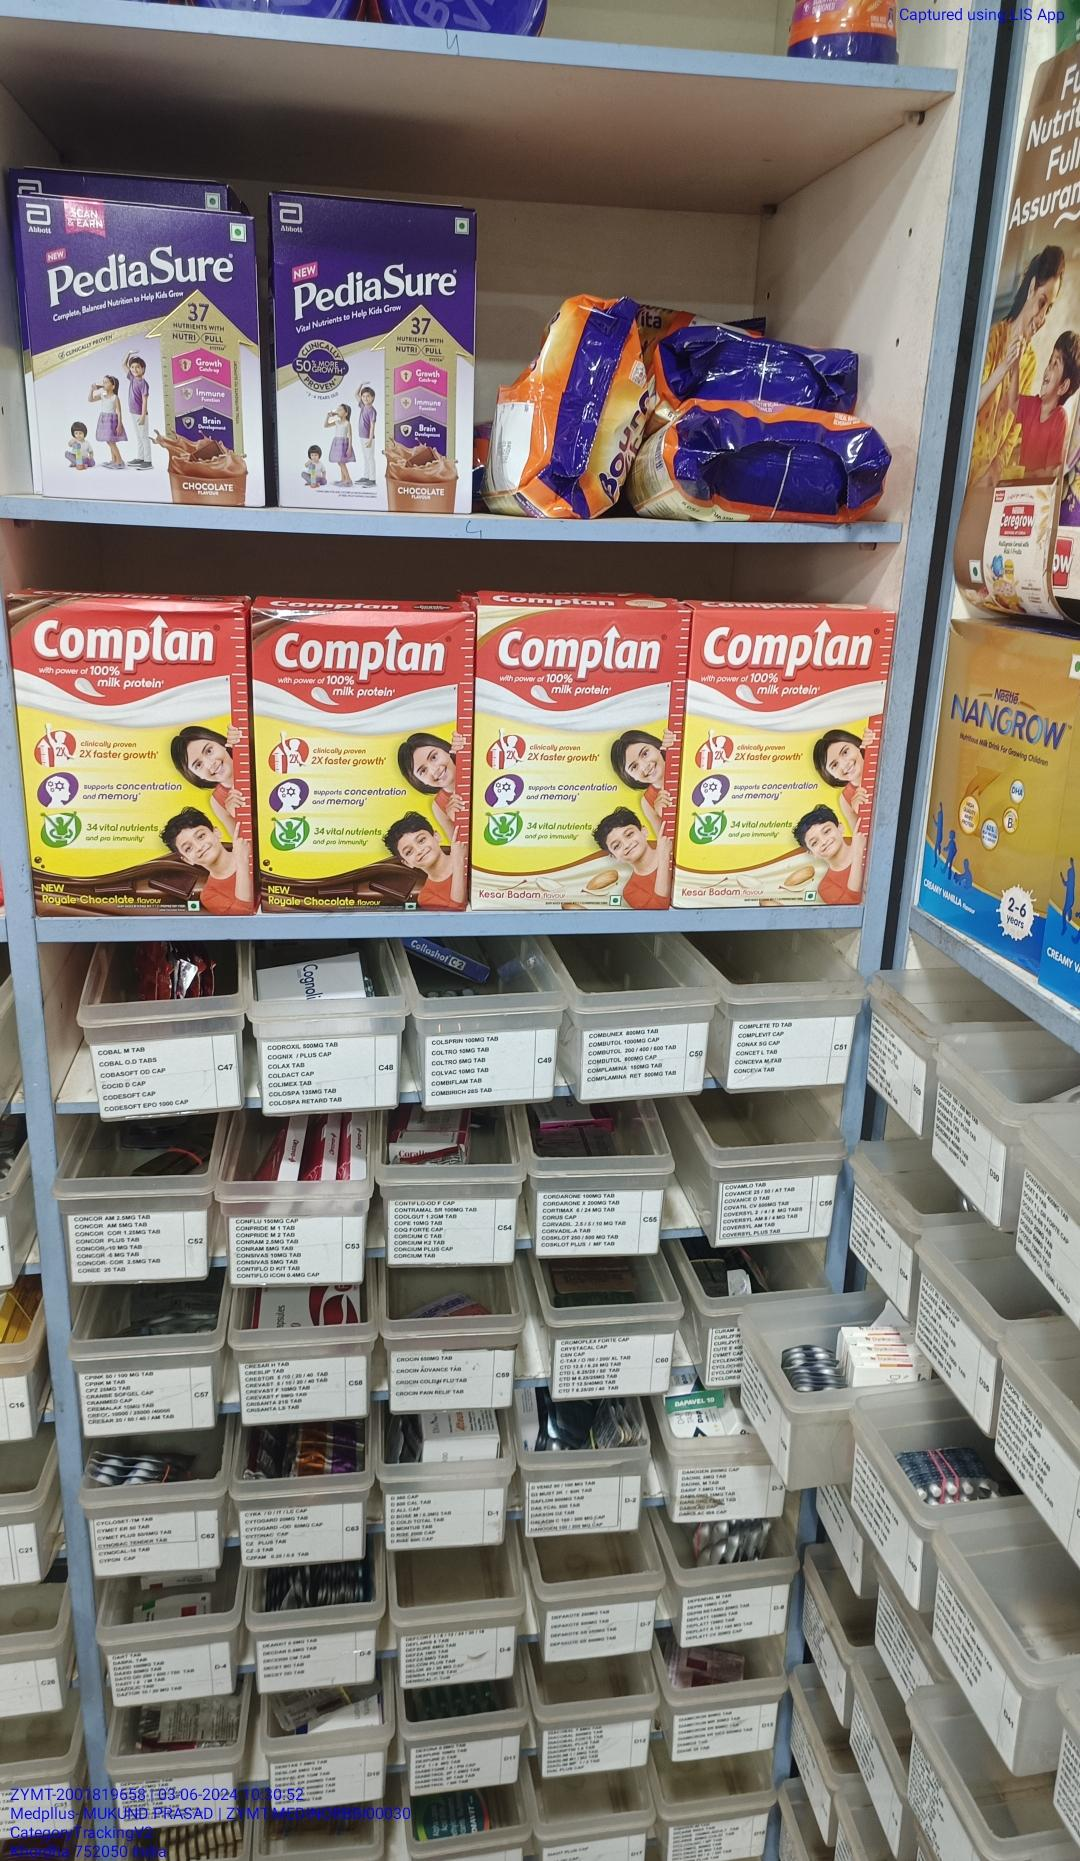PEDIASURE_CHOCOLATE_500_G_PACK: (22, 197, 262, 510), (271, 190, 472, 512)
